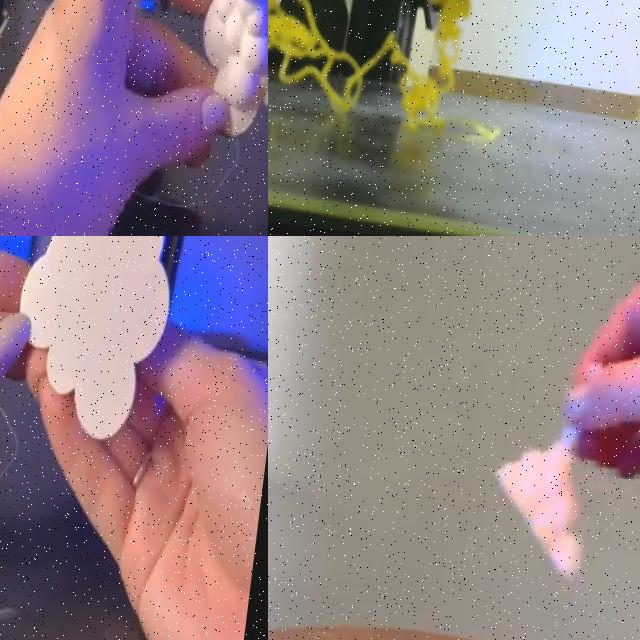spaghetti: (268, 0, 470, 130)
